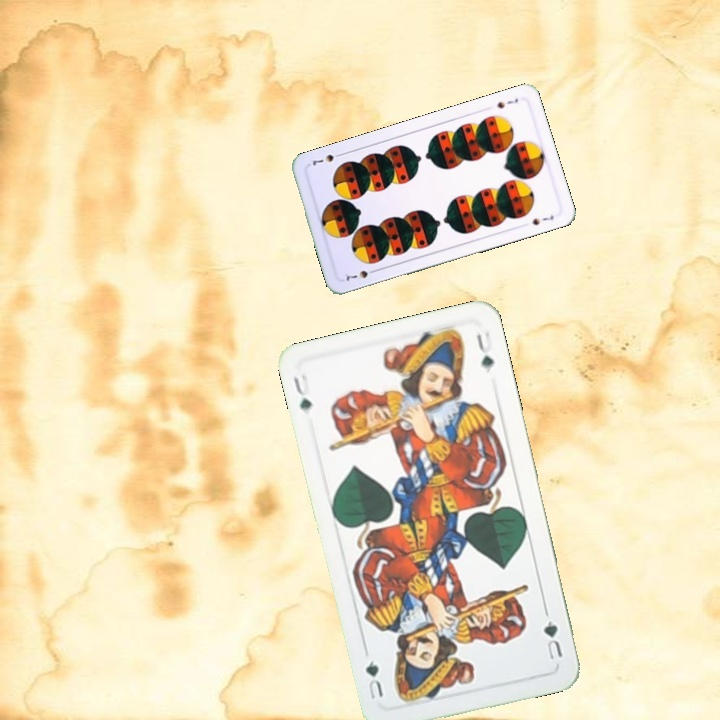GU: (539, 616, 566, 663), (289, 370, 314, 418)
S7: (342, 265, 380, 283), (493, 94, 521, 111)
